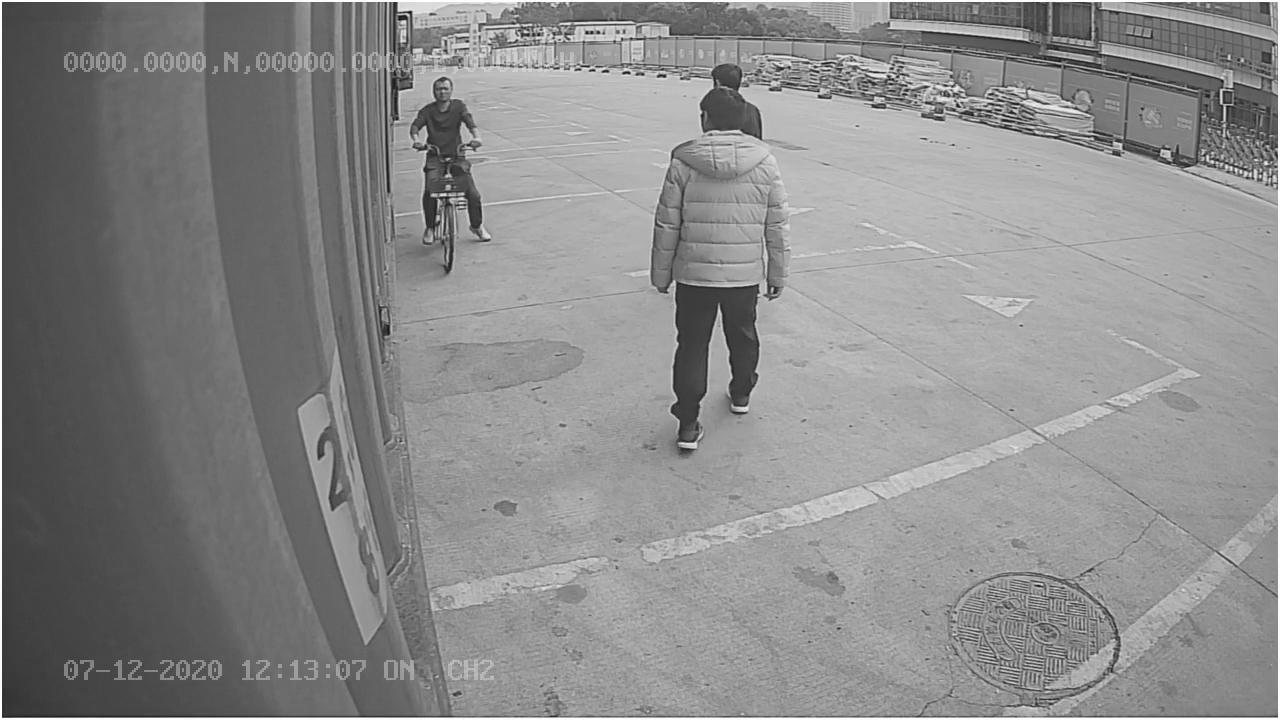person: (649, 88, 791, 451)
